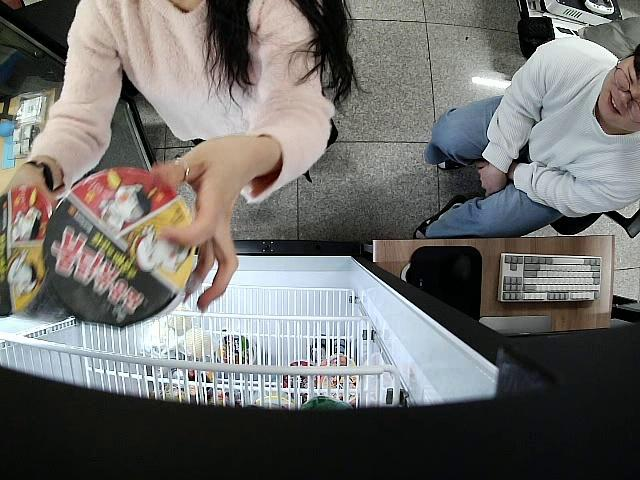00_hand: (147, 132, 242, 314)
07_buldak_L: (44, 169, 195, 327), (0, 186, 71, 323)
